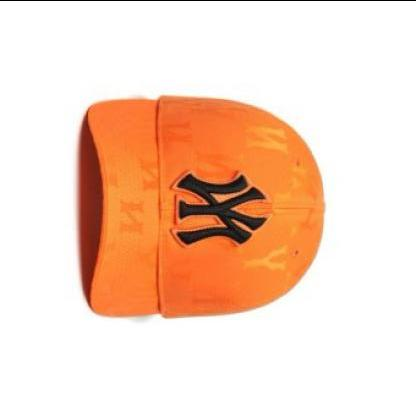cap: (58, 80, 340, 332)
